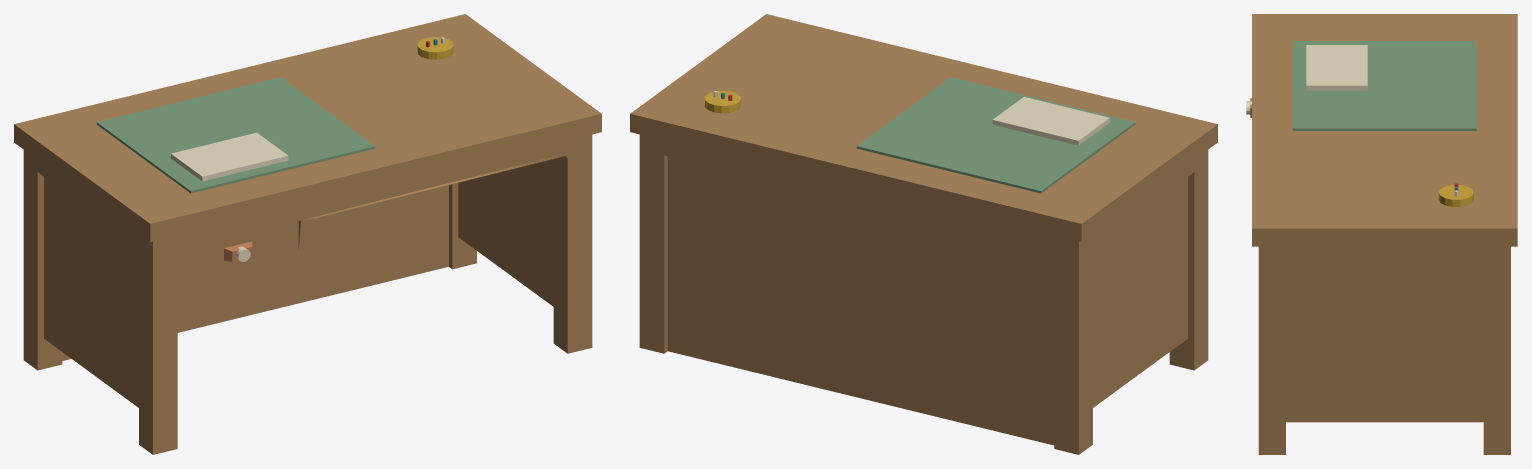
Rendered from desk.glb.
The picture shows the model from 3 angles, left to right: view 1: azimuth 30°, elevation 25°; view 2: azimuth 150°, elevation 25°; view 3: azimuth 270°, elevation 25°; orthographic projection. The views are drawn at different scales.
Visible parts, largest first — view 1: desk(Clone), drawer; view 2: desk(Clone); view 3: desk(Clone).
Boxes of the visible parts, x1,y1,x2,y2 form: desk(Clone): (14,14,601,454); drawer: (177,221,298,280); desk(Clone): (630,14,1217,454); desk(Clone): (1252,14,1517,454).
Bounding box in the file's own units: 0.7345 × 0.3844 × 0.3923.
